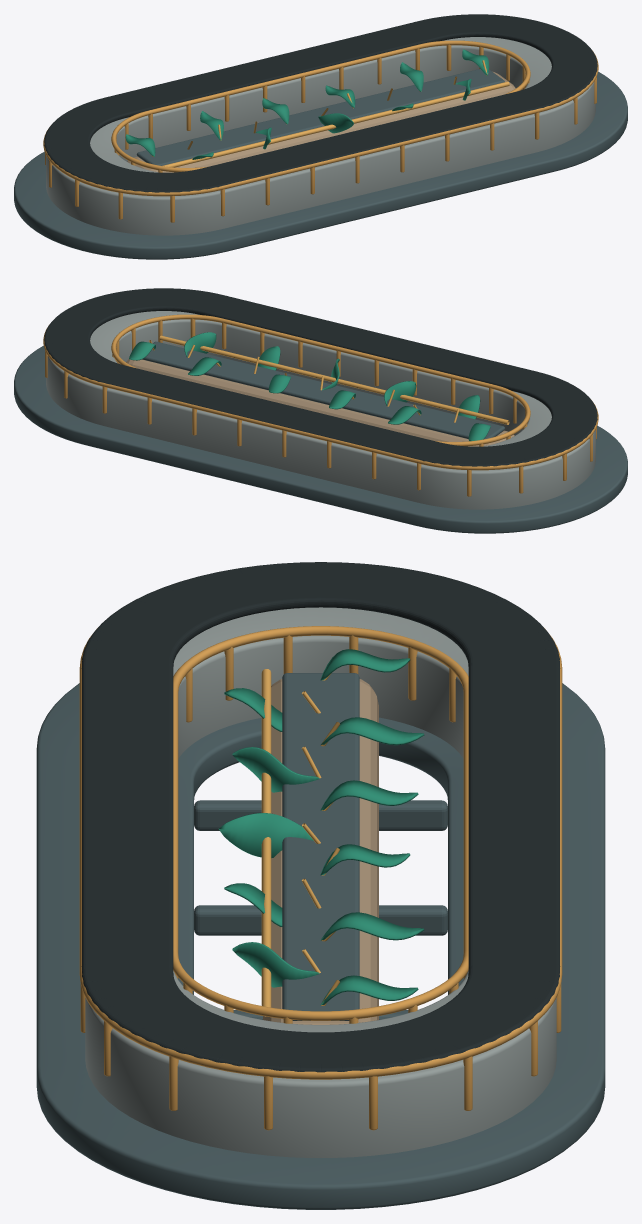
The model's file is baggage-belt.glb.
The picture shows the model from 3 angles, top to bottom: view 1: azimuth 30°, elevation 25°; view 2: azimuth 150°, elevation 25°; view 3: azimuth 270°, elevation 25°; orthographic projection. The views are drawn at different scales.
Visible parts, largest first — view 1: BaggageBelt_Belt_brushed_metal, BaggageBelt_Belt_dark_rubber, BaggageBelt_Belt_shadow_metal, BaggageBelt_Belt_warm_brass_rail, BaggageBelt_Belt_planter_foliage, BeltCenterPlanterBody, BaggageBelt_Belt_planter_trim; view 2: BaggageBelt_Belt_brushed_metal, BaggageBelt_Belt_dark_rubber, BaggageBelt_Belt_shadow_metal, BaggageBelt_Belt_warm_brass_rail, BaggageBelt_Belt_planter_foliage, BeltCenterPlanterBody, BaggageBelt_Belt_planter_trim; view 3: BaggageBelt_Belt_shadow_metal, BaggageBelt_Belt_dark_rubber, BaggageBelt_Belt_brushed_metal, BaggageBelt_Belt_warm_brass_rail, BaggageBelt_Belt_planter_foliage, BeltCenterPlanterBody, BaggageBelt_Belt_planter_trim.
Part boxes in pixels (bbox=[...]): BaggageBelt_Belt_brushed_metal: bbox=[46, 37, 595, 235]; BaggageBelt_Belt_dark_rubber: bbox=[44, 14, 597, 192]; BaggageBelt_Belt_shadow_metal: bbox=[14, 69, 627, 259]; BaggageBelt_Belt_warm_brass_rail: bbox=[43, 40, 598, 222]; BaggageBelt_Belt_planter_foliage: bbox=[125, 49, 489, 159]; BeltCenterPlanterBody: bbox=[127, 71, 515, 172]; BaggageBelt_Belt_planter_trim: bbox=[151, 60, 509, 167]; BaggageBelt_Belt_brushed_metal: bbox=[46, 311, 595, 509]; BaggageBelt_Belt_dark_rubber: bbox=[44, 288, 597, 466]; BaggageBelt_Belt_shadow_metal: bbox=[14, 341, 627, 533]; BaggageBelt_Belt_warm_brass_rail: bbox=[43, 314, 598, 496]; BaggageBelt_Belt_planter_foliage: bbox=[129, 332, 490, 441]; BeltCenterPlanterBody: bbox=[126, 359, 514, 446]; BaggageBelt_Belt_planter_trim: bbox=[149, 335, 509, 424]; BaggageBelt_Belt_shadow_metal: bbox=[36, 673, 605, 1209]; BaggageBelt_Belt_dark_rubber: bbox=[81, 562, 560, 1072]; BaggageBelt_Belt_brushed_metal: bbox=[85, 607, 556, 1157]; BaggageBelt_Belt_warm_brass_rail: bbox=[79, 626, 562, 1130]; BaggageBelt_Belt_planter_foliage: bbox=[218, 649, 424, 1005]; BeltCenterPlanterBody: bbox=[263, 679, 378, 1024]; BaggageBelt_Belt_planter_trim: bbox=[261, 669, 340, 1016].
Size of the model in its own units: 11 by 1.12 by 4.7.
